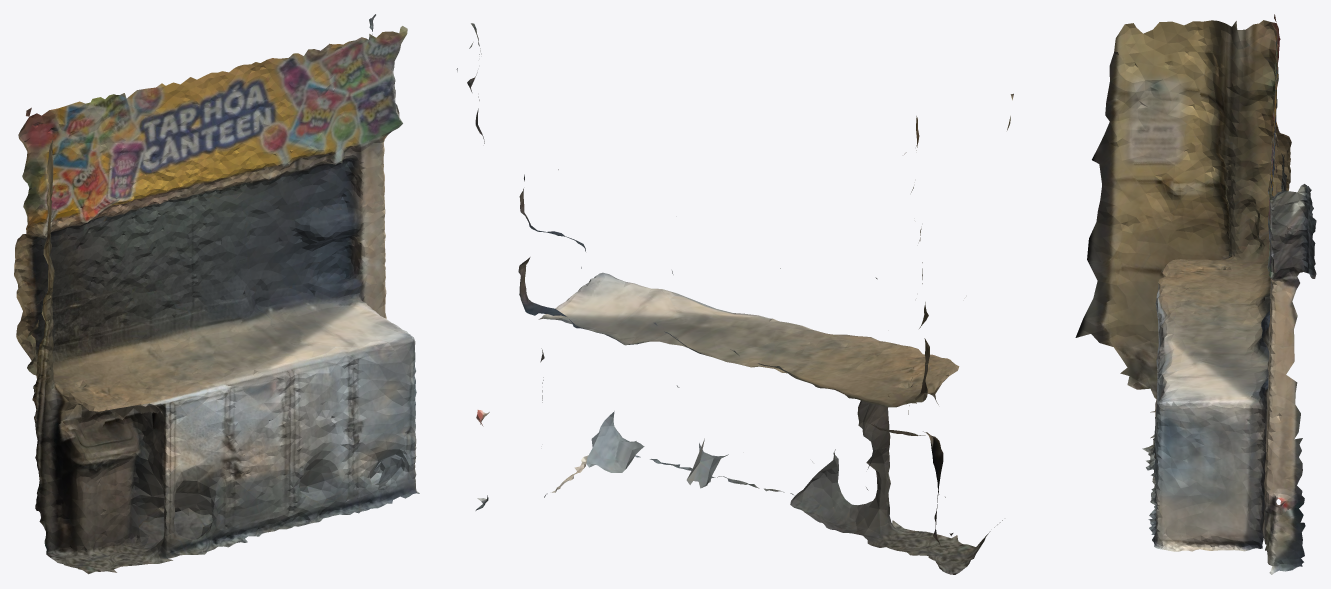
File: canteen.glb
3 views of the same model, side by side, from view 1: azimuth 30°, elevation 25°; view 2: azimuth 150°, elevation 25°; view 3: azimuth 270°, elevation 25° (orthographic). The views are drawn at different scales.
Parts seen in each view (by area): view 1: Mesh_0; view 2: Mesh_0; view 3: Mesh_0.
Boxes of the visible parts, box(x1,y1,x2,y2) form: Mesh_0: box(14, 14, 419, 574); Mesh_0: box(456, 23, 1013, 574); Mesh_0: box(1075, 14, 1316, 574).
Size of the model in its own units: 2.19 by 2.23 by 1.24.
1 material, 1 textured.
